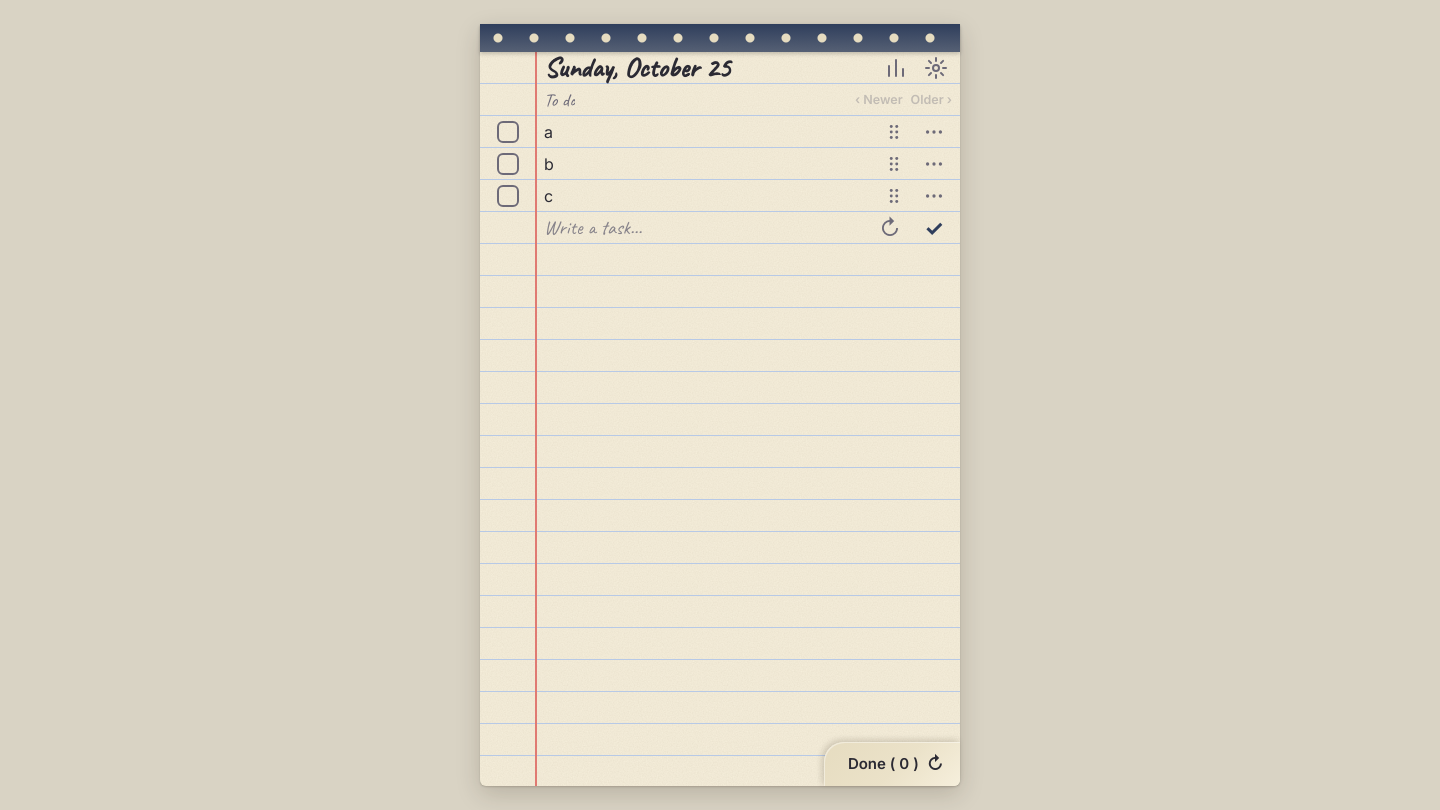
Test: the task menu › moves a task up and down, announcing the new position
Click the button named "Actions for: a": x=934, y=132 x1=912 y1=110 x2=956 y2=154
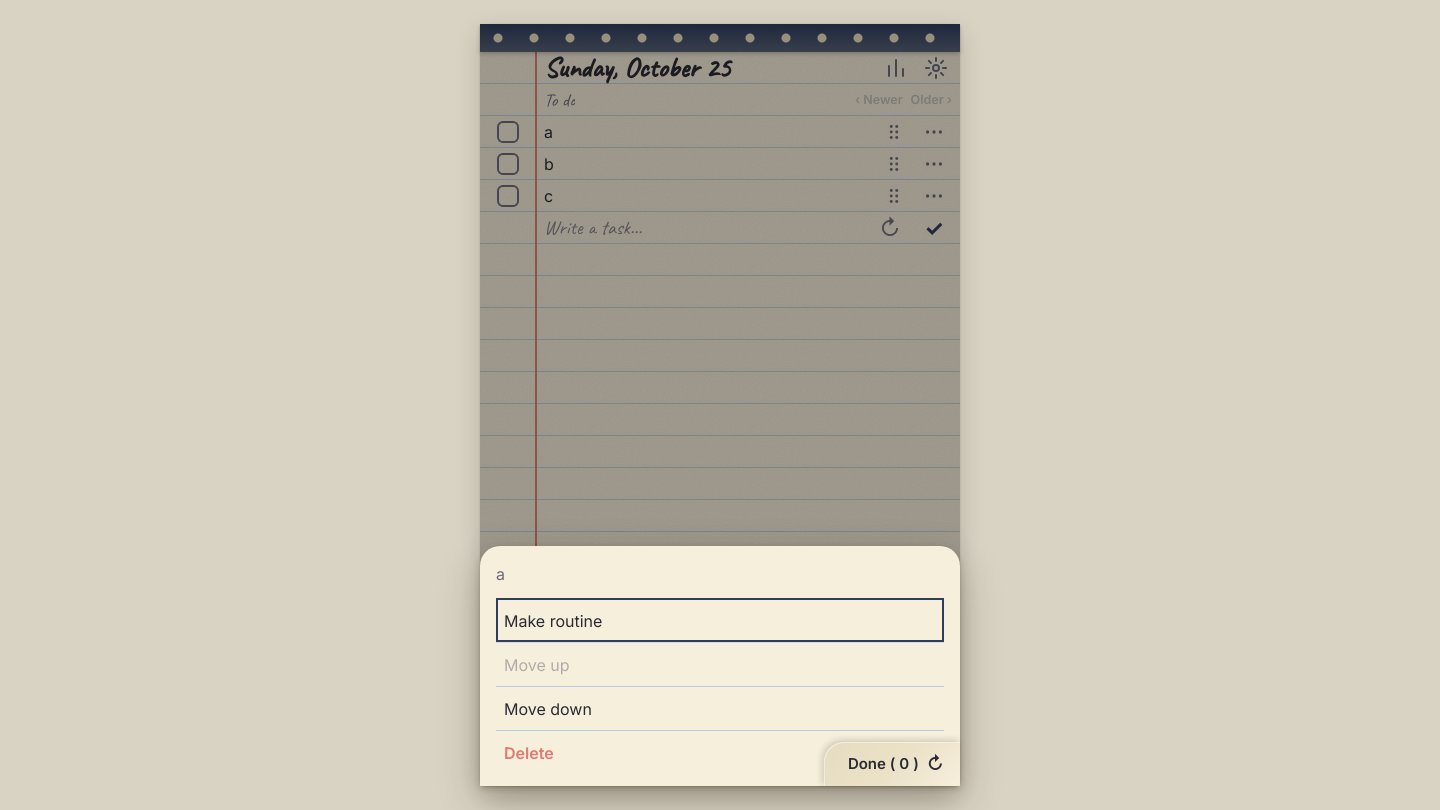
Check: the button "Move up" is disabled, box x1=496 y1=642 x2=944 y2=686
Click the button "Move down": x=548, y=708 x1=496 y1=686 x2=944 y2=730
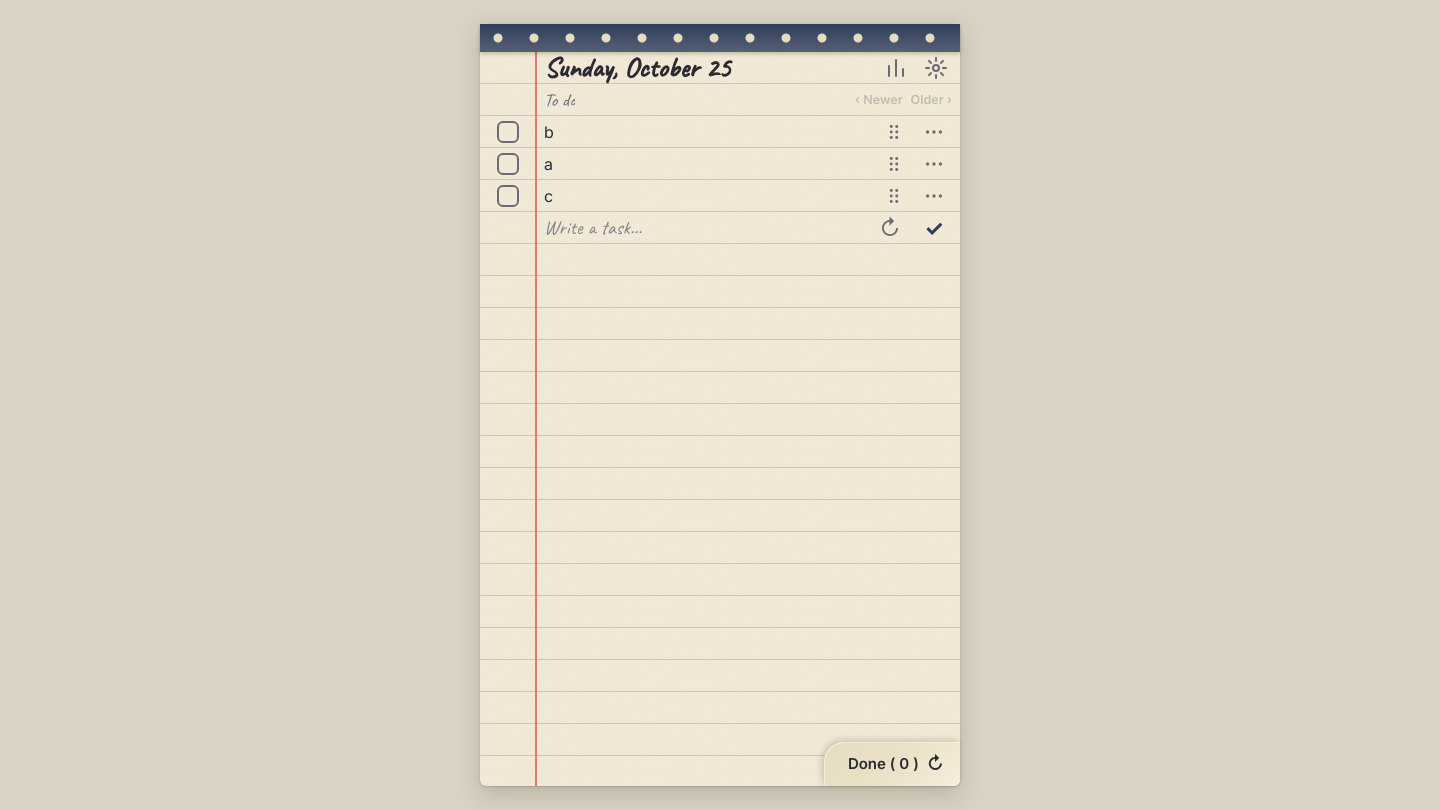
Click the button named "Actions for: a": x=934, y=164 x1=912 y1=142 x2=956 y2=186
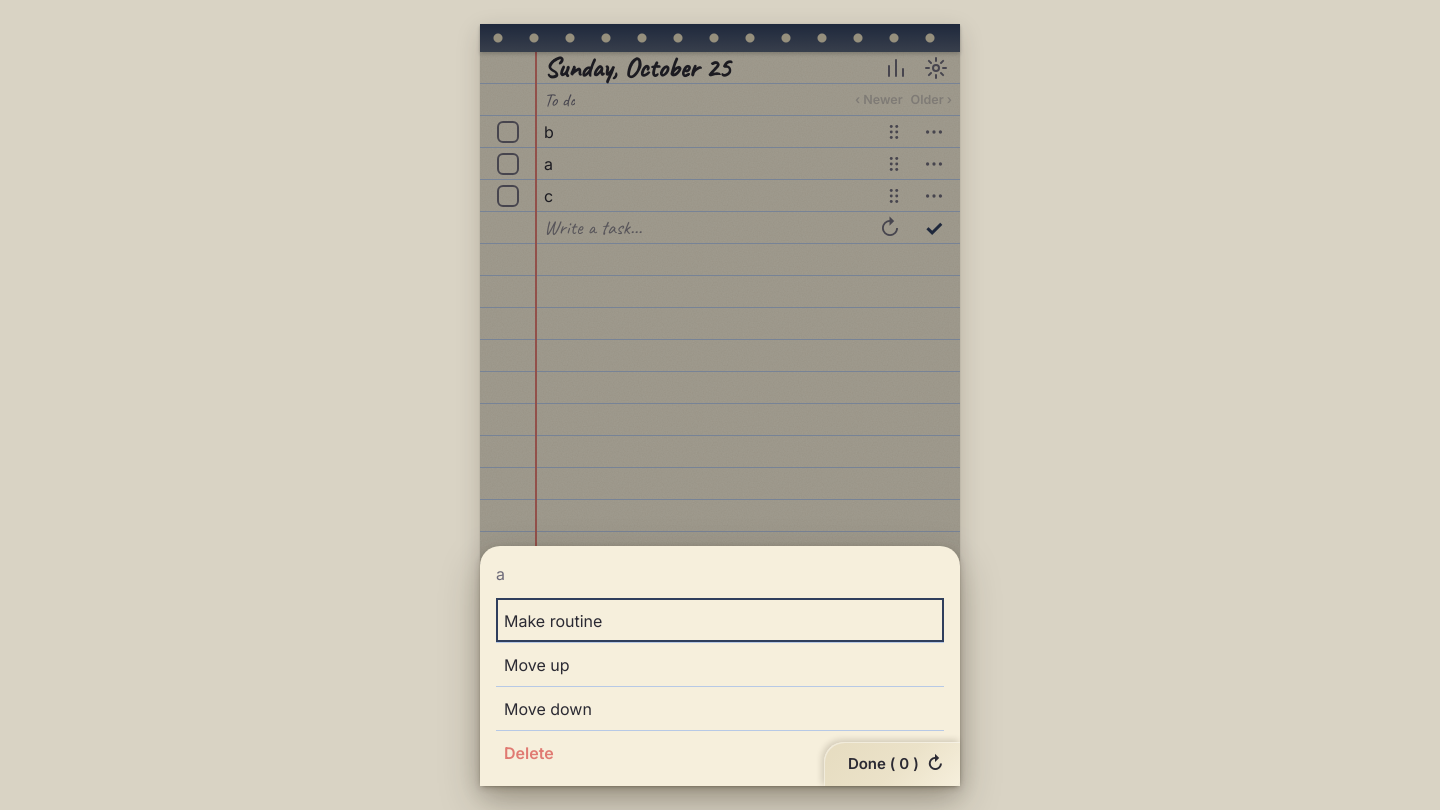
Click the button "Move up": x=537, y=664 x1=496 y1=642 x2=944 y2=686
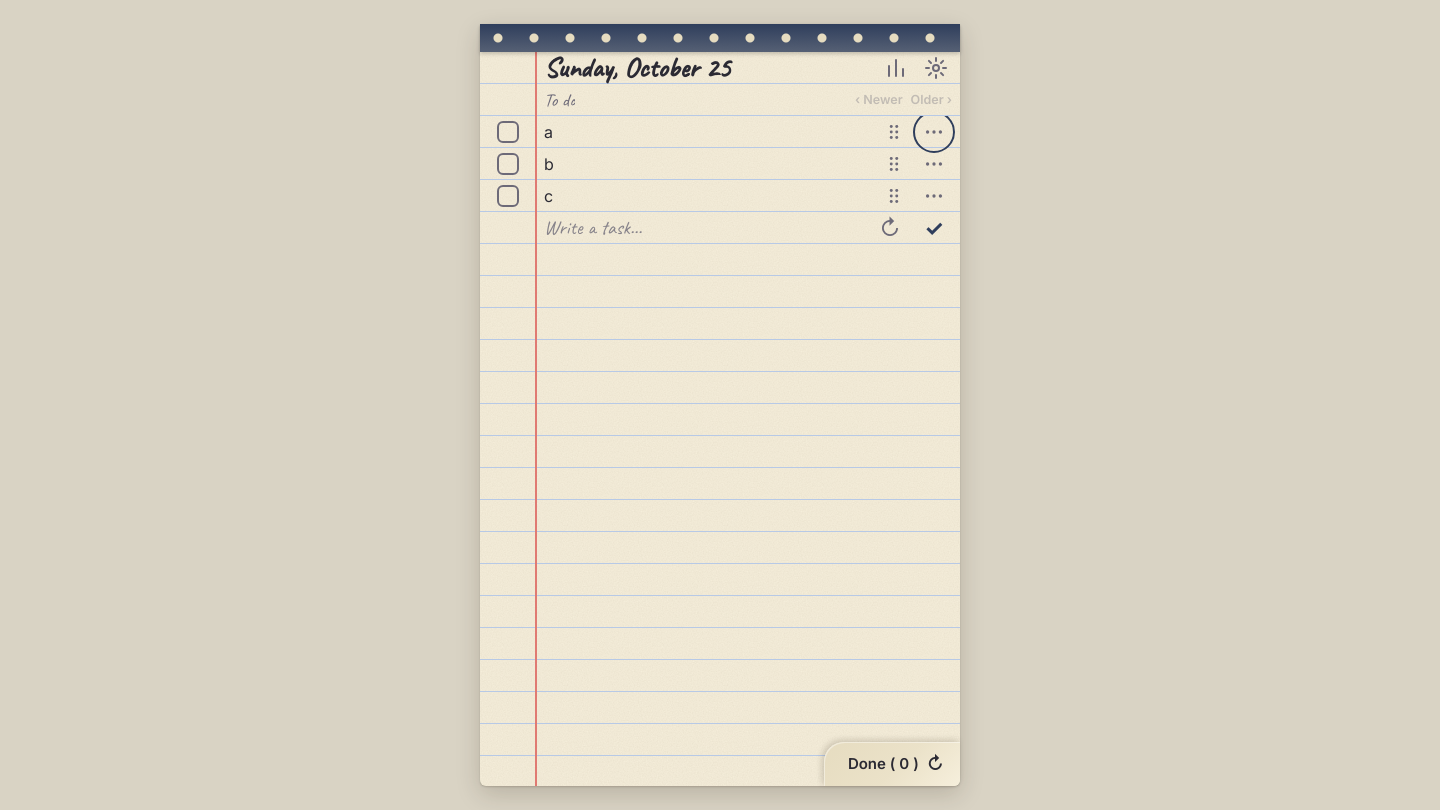
Click the button named "Actions for: c": x=934, y=196 x1=912 y1=174 x2=956 y2=218
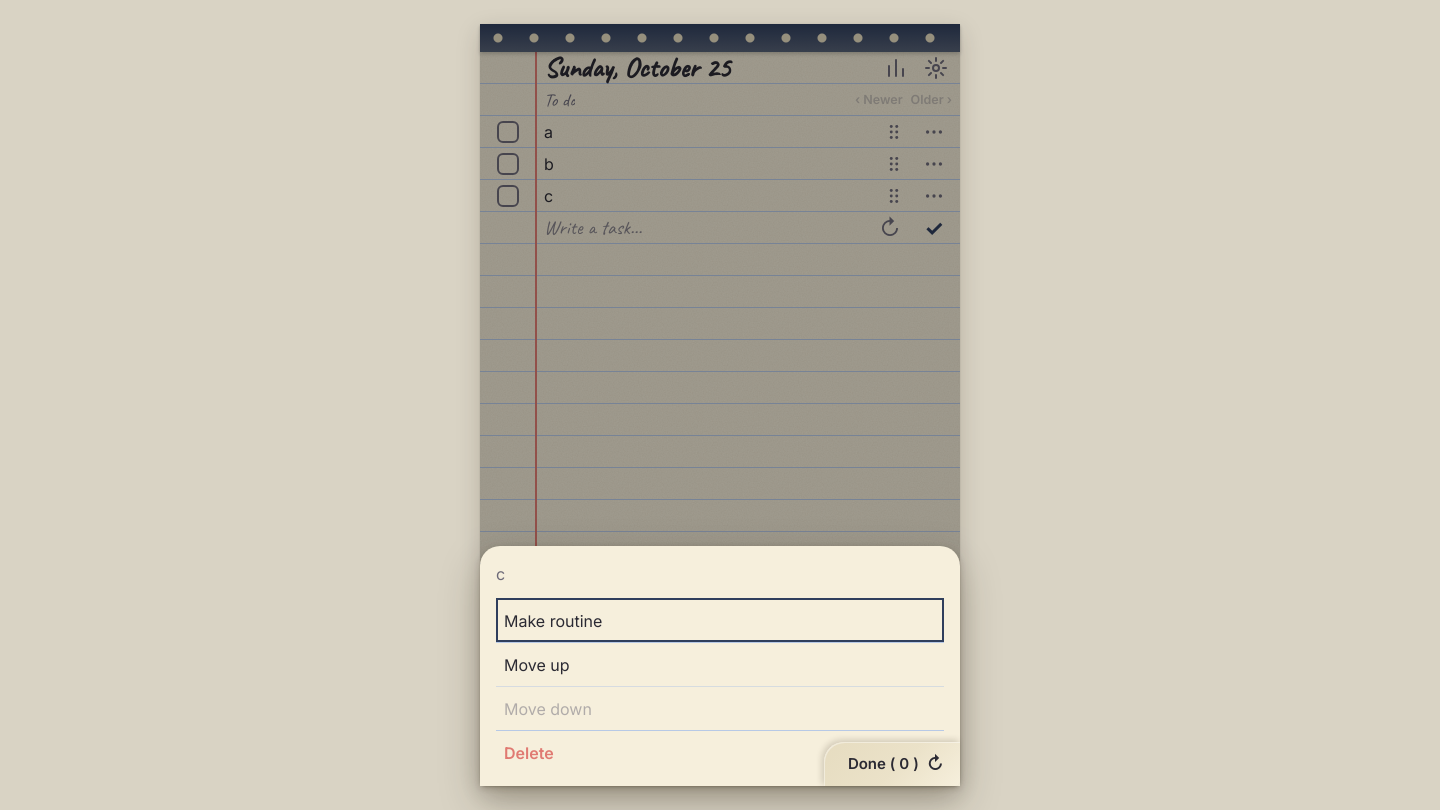
Check: the button "Move down" is disabled, box x1=496 y1=686 x2=944 y2=730
